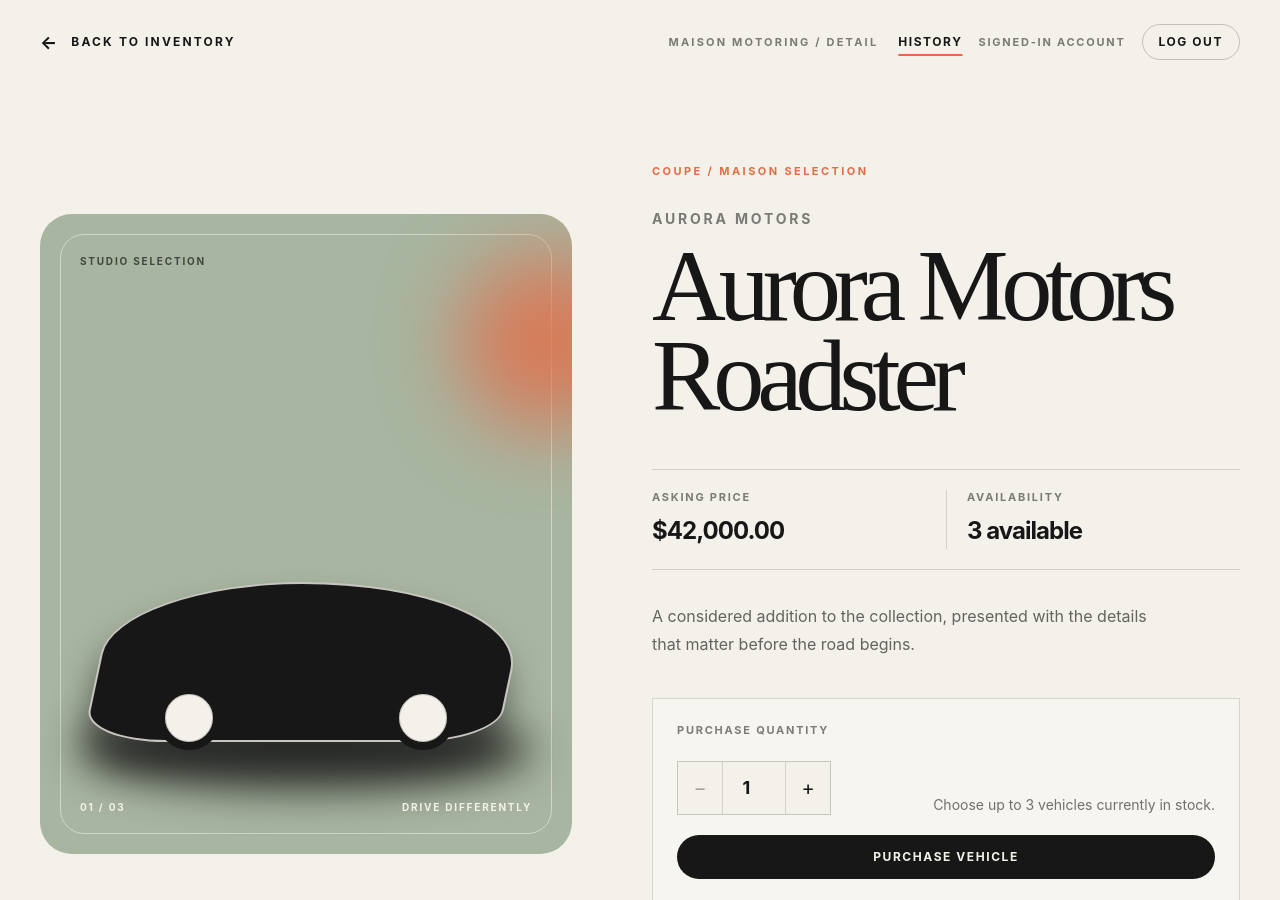
Test case: vehicle purchase flow › offers accessible quantity stepper controls bounded by available stock
Expected: the button named "decrease purchase quantity" is disabled, [678,762,722,814]
Click the button named "increase purchase quantity" at (808, 788), box [786,762,830,814]
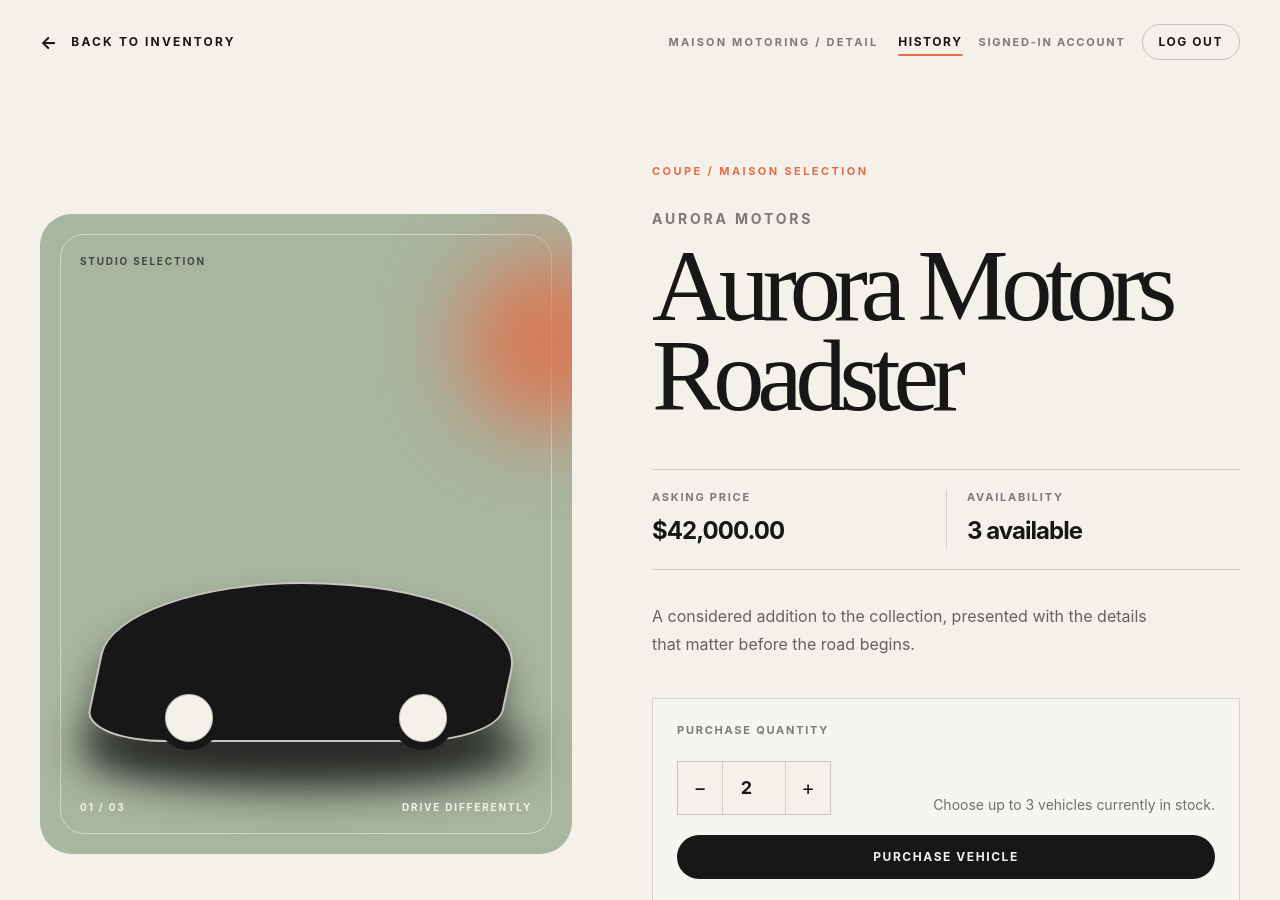
Expected: the number field labelled "Purchase quantity" holds "2", [722,762,786,814]
Click the button named "increase purchase quantity" at (808, 788), box [786,762,830,814]
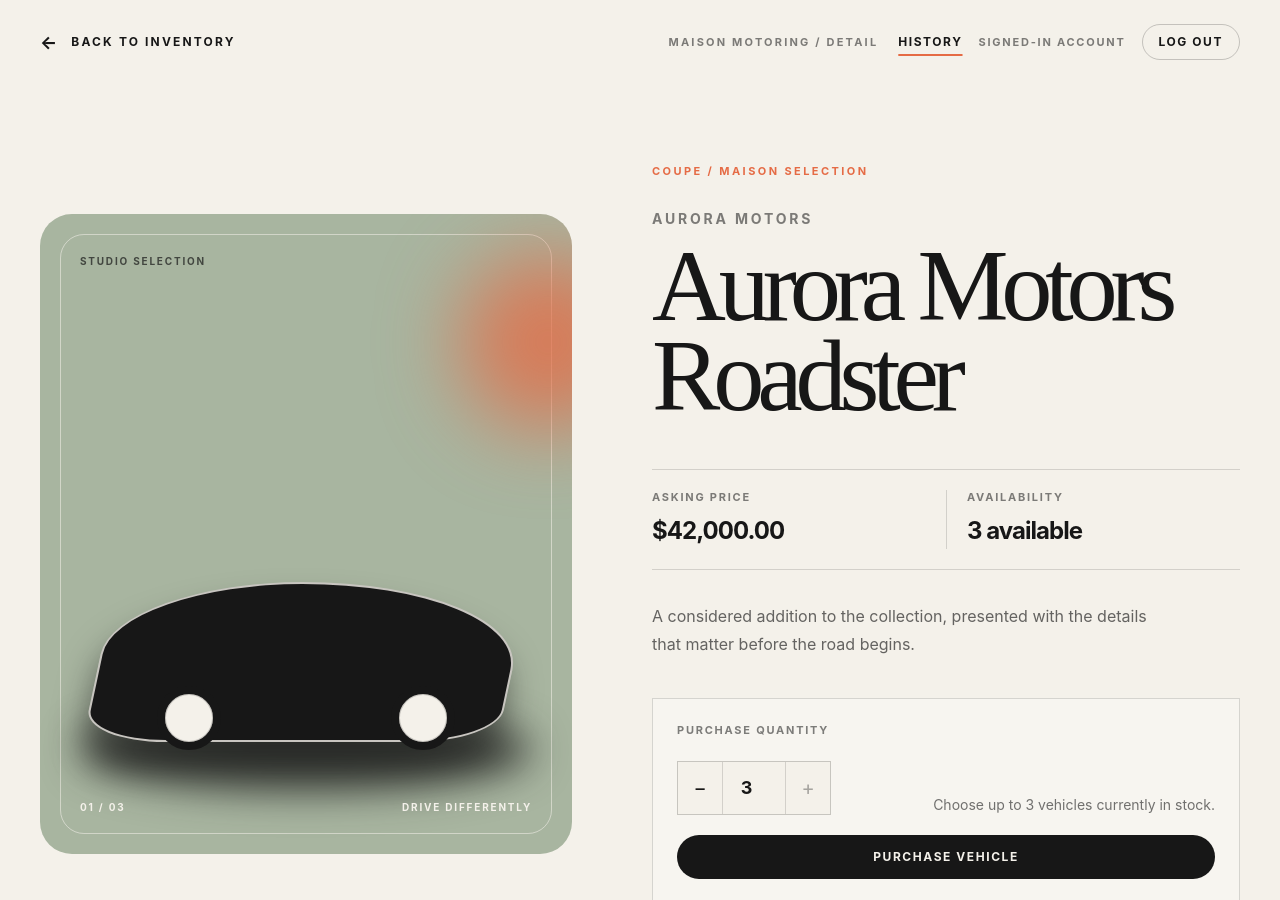
Expected: the number field labelled "Purchase quantity" holds "3", [722,762,786,814]
Expected: the button named "increase purchase quantity" is disabled, [786,762,830,814]
Click the button named "decrease purchase quantity" at (700, 788), box [678,762,722,814]
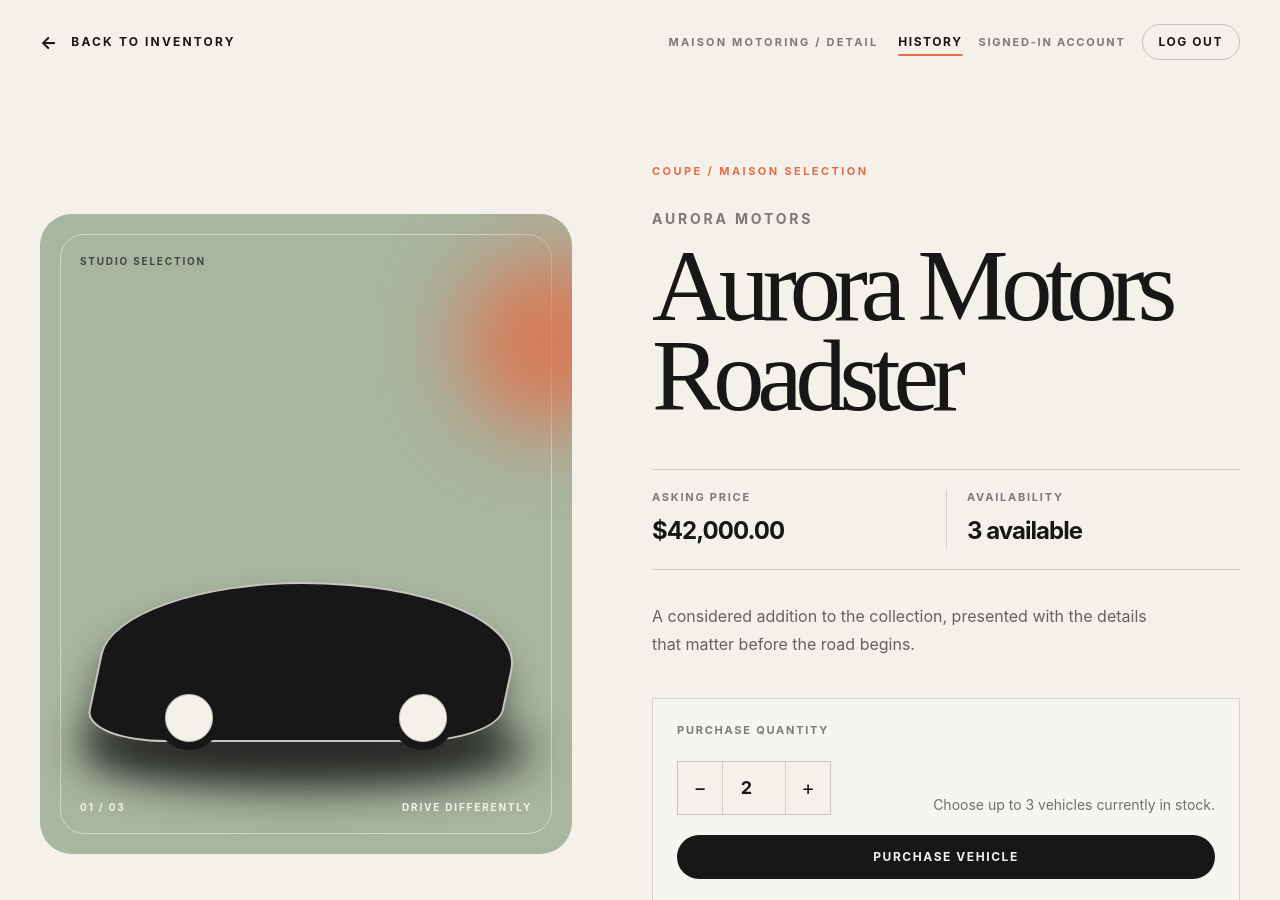
Expected: the number field labelled "Purchase quantity" holds "2", [722,762,786,814]
